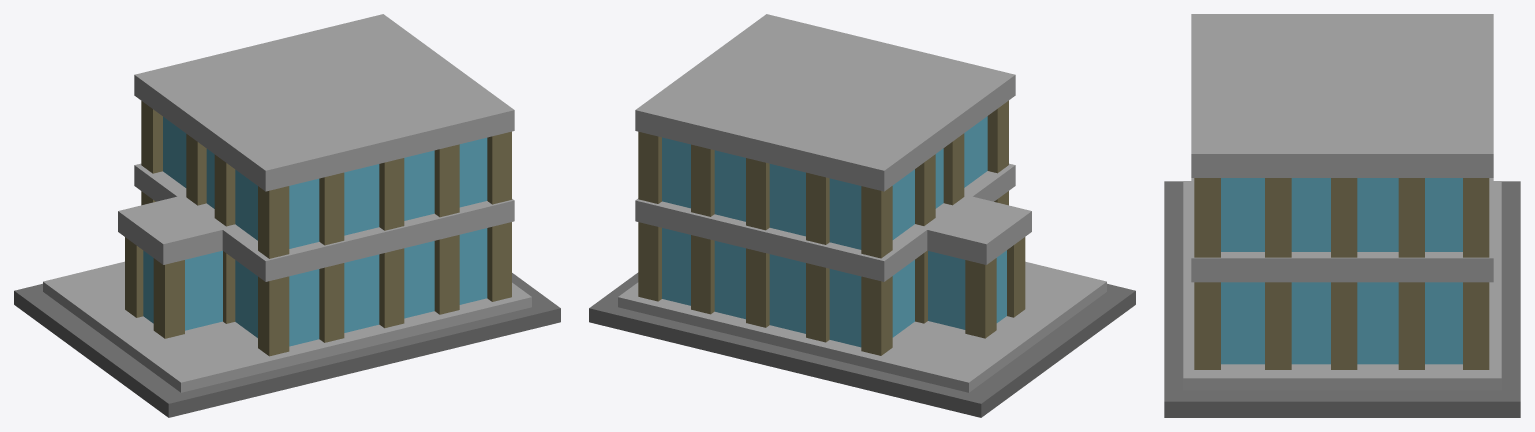
Rendered from FancyBuilding.fbx.
The picture shows the model from 3 angles, left to right: view 1: azimuth 30°, elevation 25°; view 2: azimuth 150°, elevation 25°; view 3: azimuth 270°, elevation 25°; orthographic projection. The views are drawn at different scales.
Parts seen in each view (by area): view 1: pCube169, pCube172, pCube184, pCube177, pCube170, pCube178, pCube173, pCube160, pCube157, pCube158, pCube161, pCube159 (+9 smaller); view 2: pCube169, pCube172, pCube184, pCube180, pCube170, pCube179, pCube173, pCube152, pCube156, pCube153, pCube154, pCube155 (+9 smaller); view 3: pCube169, pCube184, pCube176, pCube175, pCube172, pCube170, pCube156, pCube159, pCube162, pCube163, pCube164.
Part boxes in pixels (x1,y1,x2,y2): pCube169: [134, 14, 514, 191]; pCube172: [43, 261, 531, 392]; pCube184: [14, 273, 560, 417]; pCube177: [289, 228, 487, 346]; pCube170: [134, 163, 514, 281]; pCube178: [289, 137, 487, 248]; pCube173: [118, 194, 237, 264]; pCube160: [258, 186, 289, 356]; pCube157: [434, 144, 459, 314]; pCube158: [379, 158, 404, 328]; pCube161: [319, 172, 344, 342]; pCube159: [487, 131, 511, 301]; pCube169: [635, 14, 1015, 191]; pCube172: [618, 261, 1106, 392]; pCube184: [589, 272, 1135, 417]; pCube180: [662, 228, 861, 347]; pCube170: [635, 163, 1015, 281]; pCube179: [662, 137, 861, 249]; pCube173: [912, 194, 1031, 264]; pCube152: [861, 186, 892, 355]; pCube156: [638, 131, 661, 301]; pCube153: [806, 172, 829, 342]; pCube154: [691, 144, 714, 314]; pCube155: [746, 158, 769, 327]; pCube169: [1191, 14, 1493, 177]; pCube184: [1164, 181, 1520, 417]; pCube176: [1221, 282, 1462, 364]; pCube175: [1221, 178, 1462, 251]; pCube172: [1183, 181, 1501, 390]; pCube170: [1191, 178, 1493, 282]; pCube156: [1463, 178, 1489, 369]; pCube159: [1194, 178, 1220, 369]; pCube162: [1331, 178, 1357, 369]; pCube163: [1398, 178, 1424, 369]; pCube164: [1265, 178, 1291, 369].
Size of the model in its own units: 10.14 by 5.24 by 6.92.
